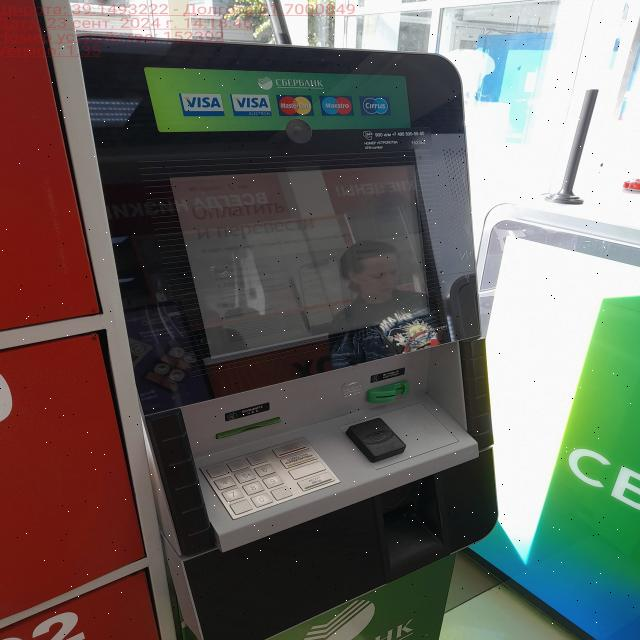bank: (80, 35, 513, 640), (476, 193, 640, 640)
